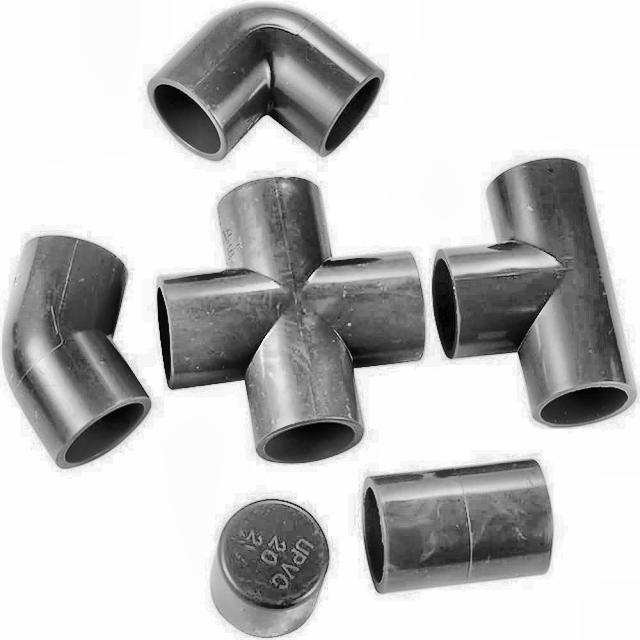ELBOW45: (0, 235, 154, 472)
ELBOW90: (145, 1, 385, 164)
EQUALCROSS: (155, 160, 634, 466)
EQUALTEE: (431, 157, 640, 431)
